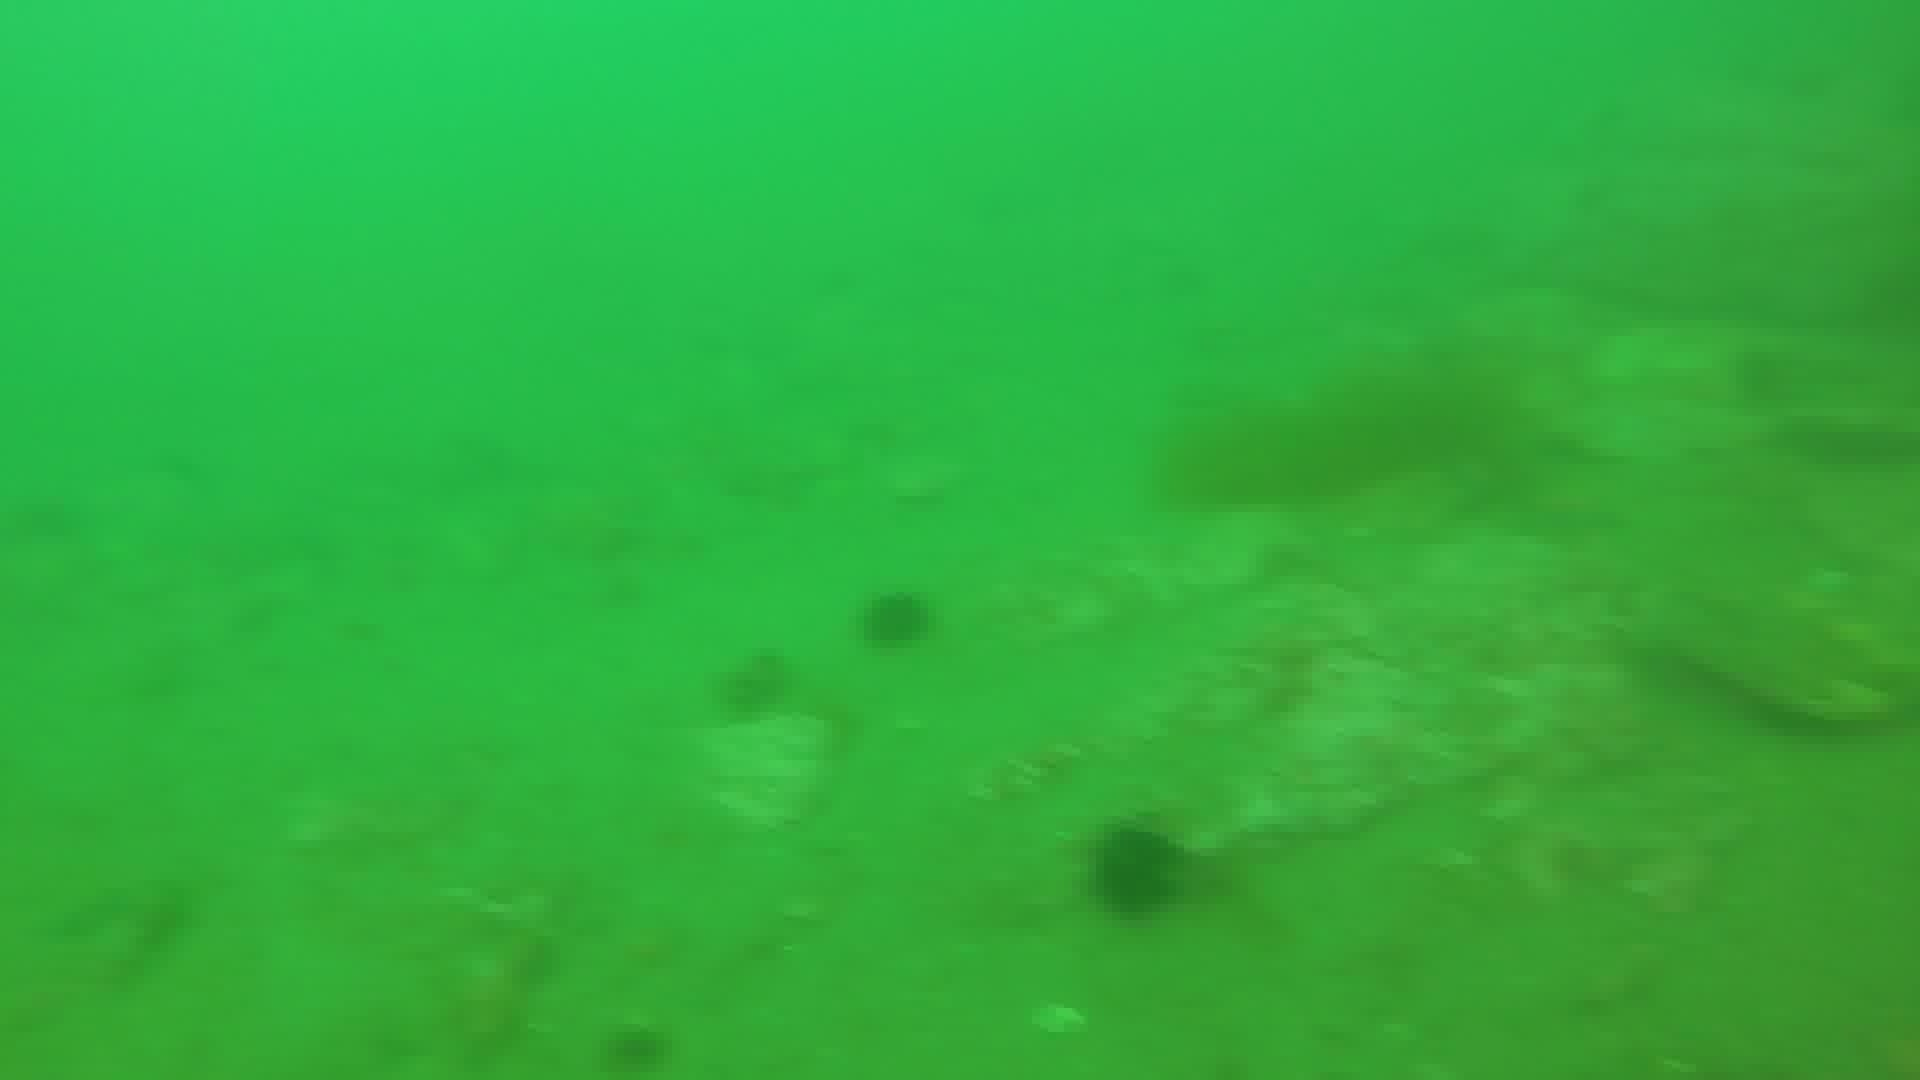echinus: (1085, 819, 1189, 923), (709, 645, 799, 727), (855, 585, 938, 655)
